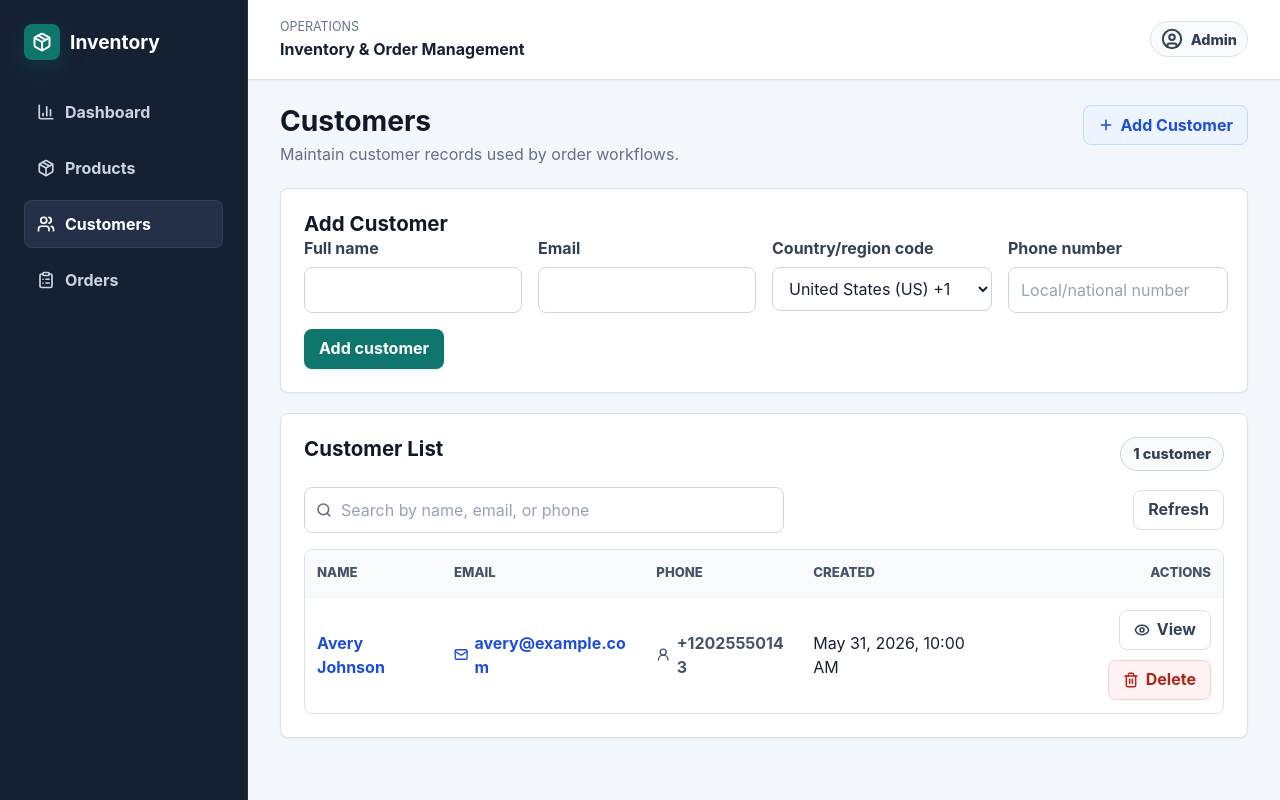
Test: frontend flows › customer form validates invalid email
The image size is (1280, 800).
Type "Casey Smith" into the field labelled "Full name".
click(413, 290); type("Casey Smith")  # box [304,267,522,313]
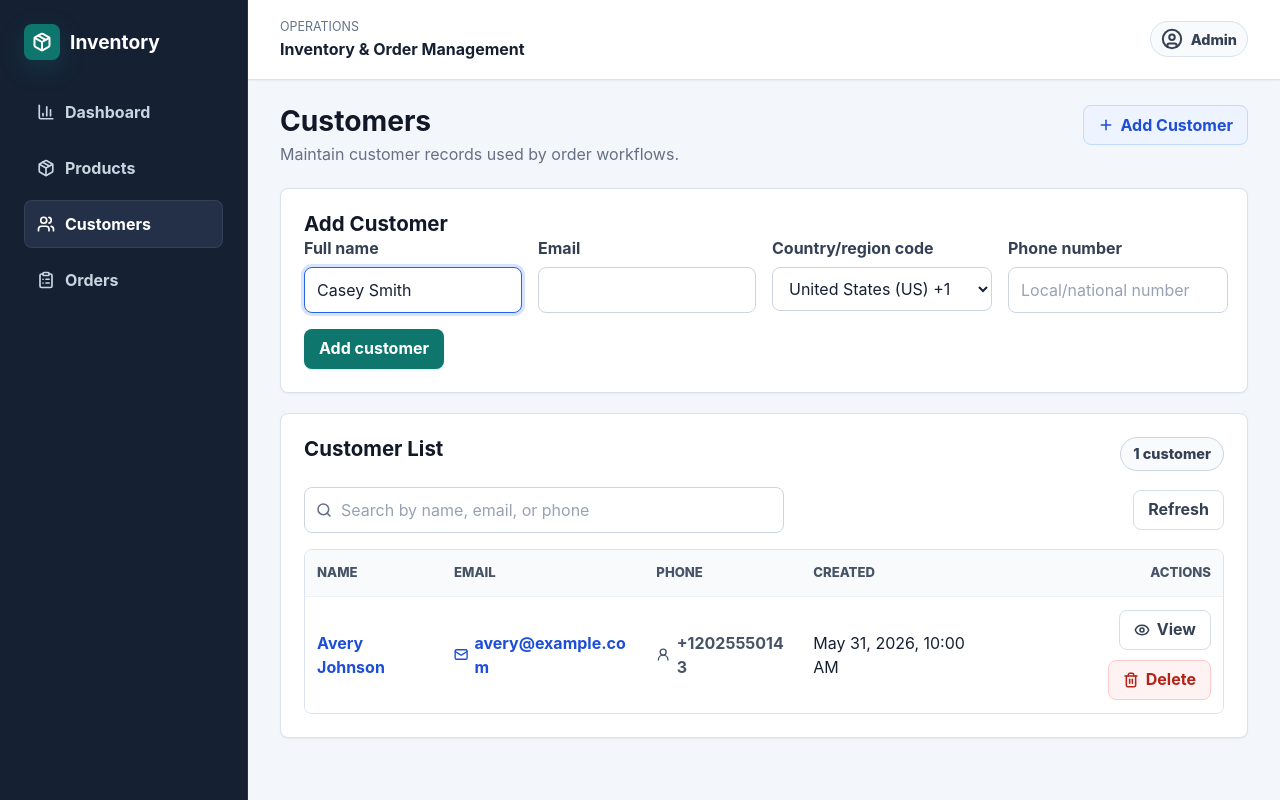
Type "not-an-email" into the field labelled "Email".
click(647, 290); type("not-an-email")  # box [538,267,756,313]
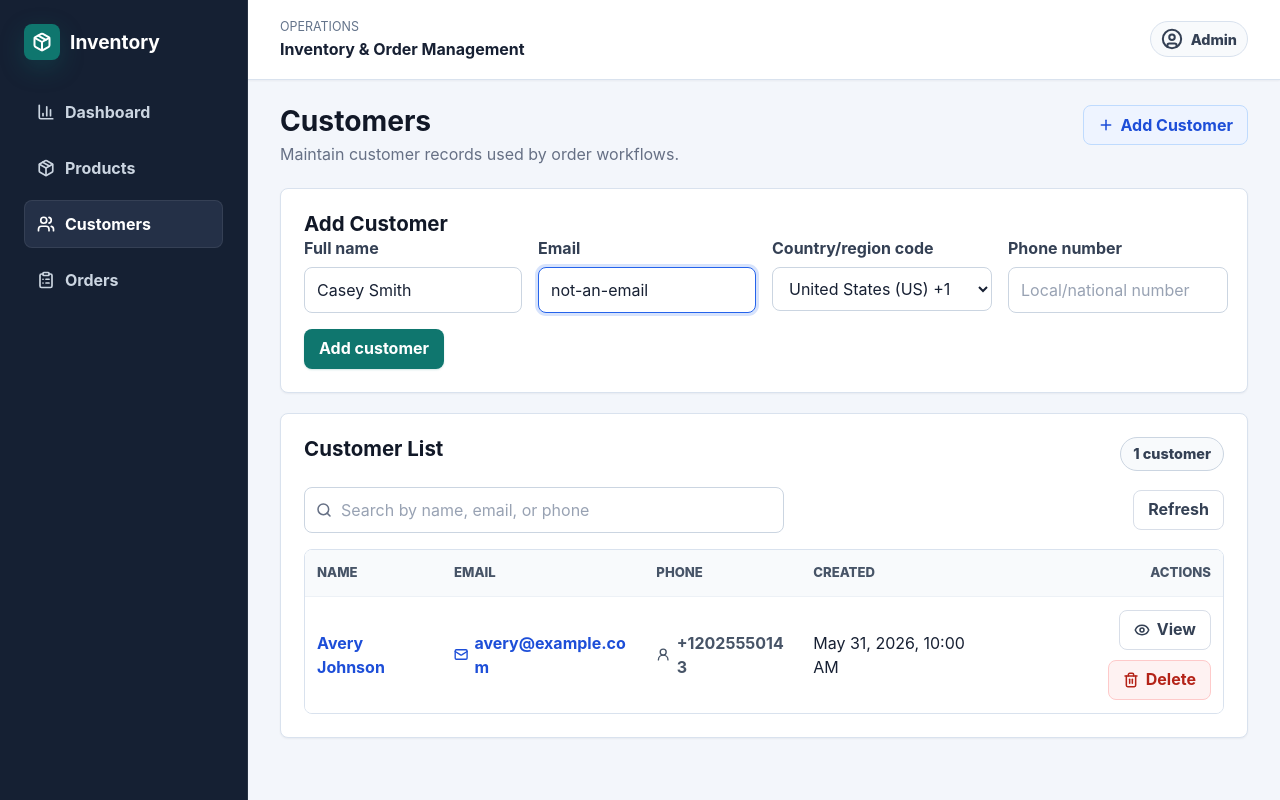
Select "India (IN) +91" in the dropdown labelled "Country/region code" at x=882, y=289, box [772,267,992,311]
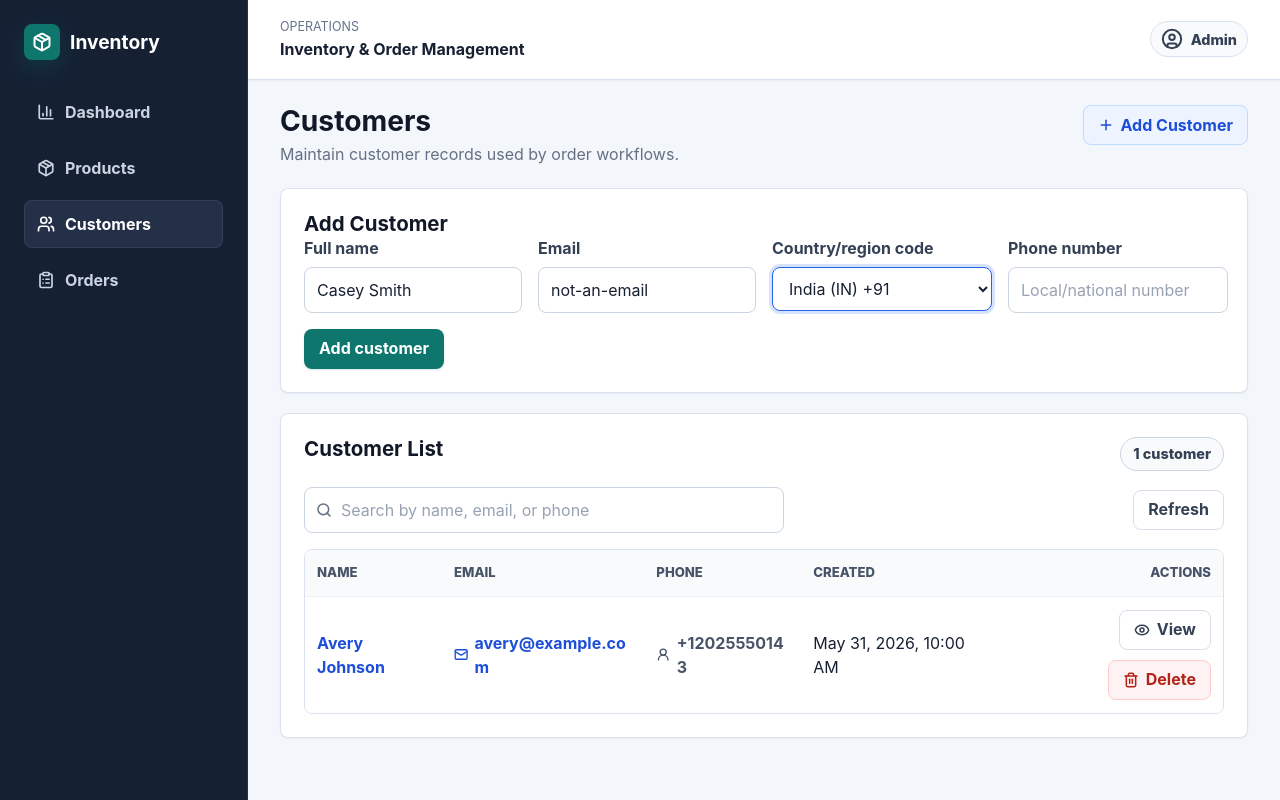
Type "9876543210" into the field labelled "Phone number".
click(1118, 290); type("9876543210")  # box [1008,267,1228,313]
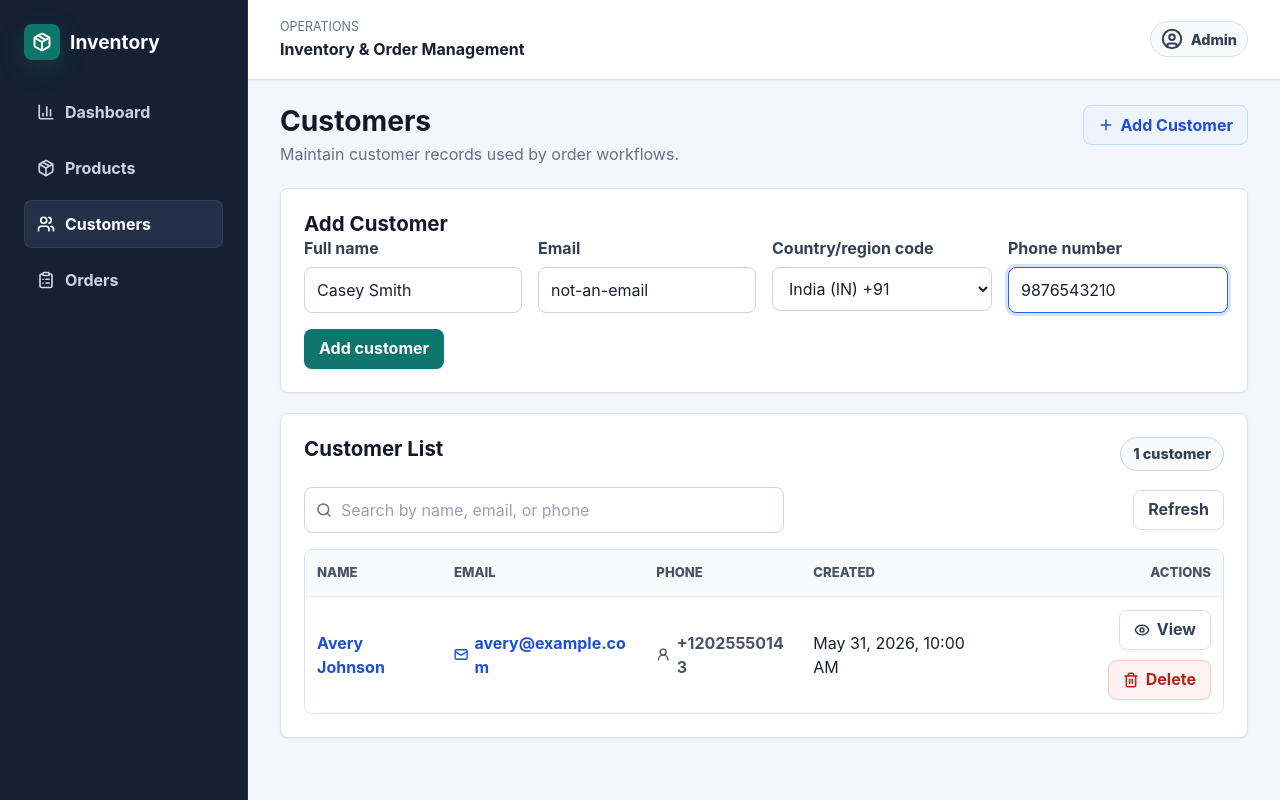
Click the button "Add customer".
click(374, 349)  # box [304,329,444,369]
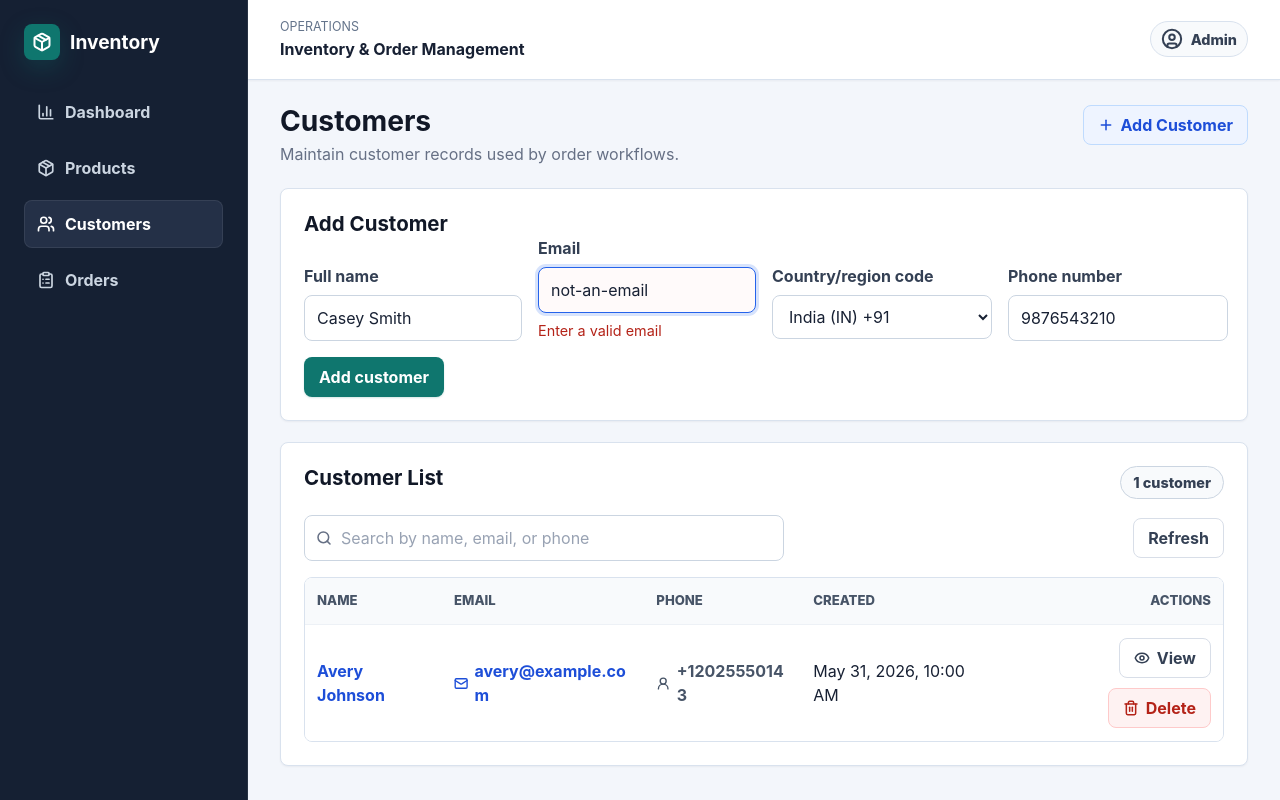
expect the text "Enter a valid email" is shown: met, box [538,322,662,339]
